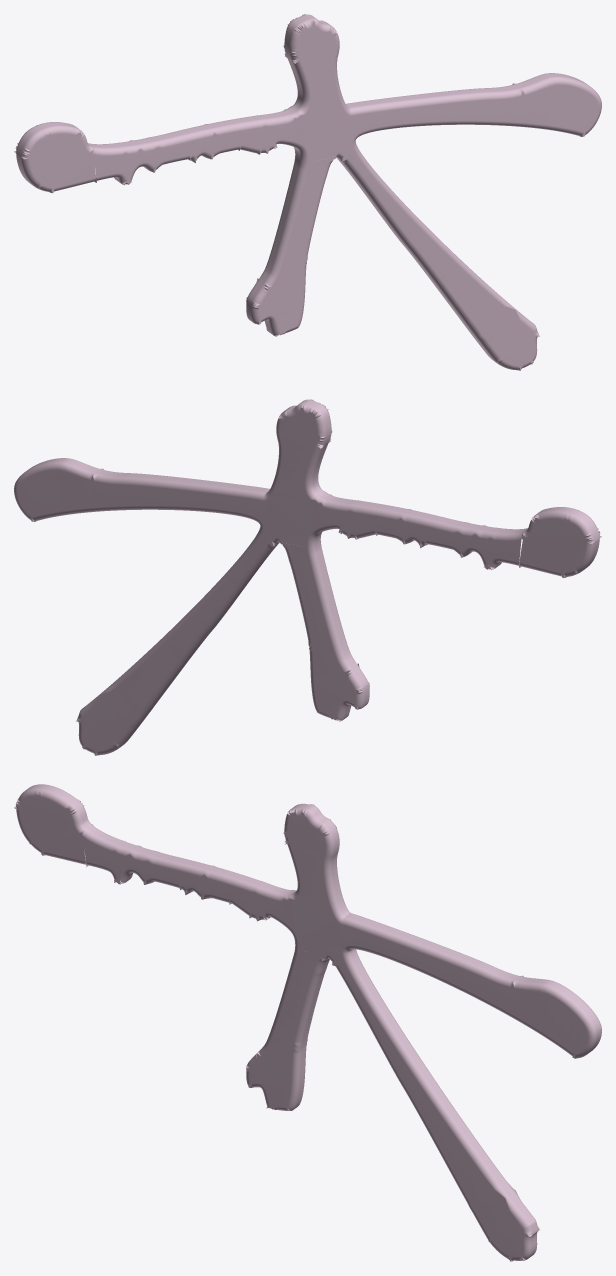
Rendered from noodle-transformed.glb.
3 renders of one model, top to bottom at view 1: azimuth 30°, elevation 25°; view 2: azimuth 150°, elevation 25°; view 3: azimuth 330°, elevation 25°, orthographic.
Visible parts, largest first — view 1: Path; view 2: Path; view 3: Path.
Boxes of the visible parts, x1,y1,x2,y2 form: Path: (14,14,601,370); Path: (14,399,601,755); Path: (14,784,601,1261).
Bounding box in the file's own units: 0.3173 × 0.2098 × 0.01.
